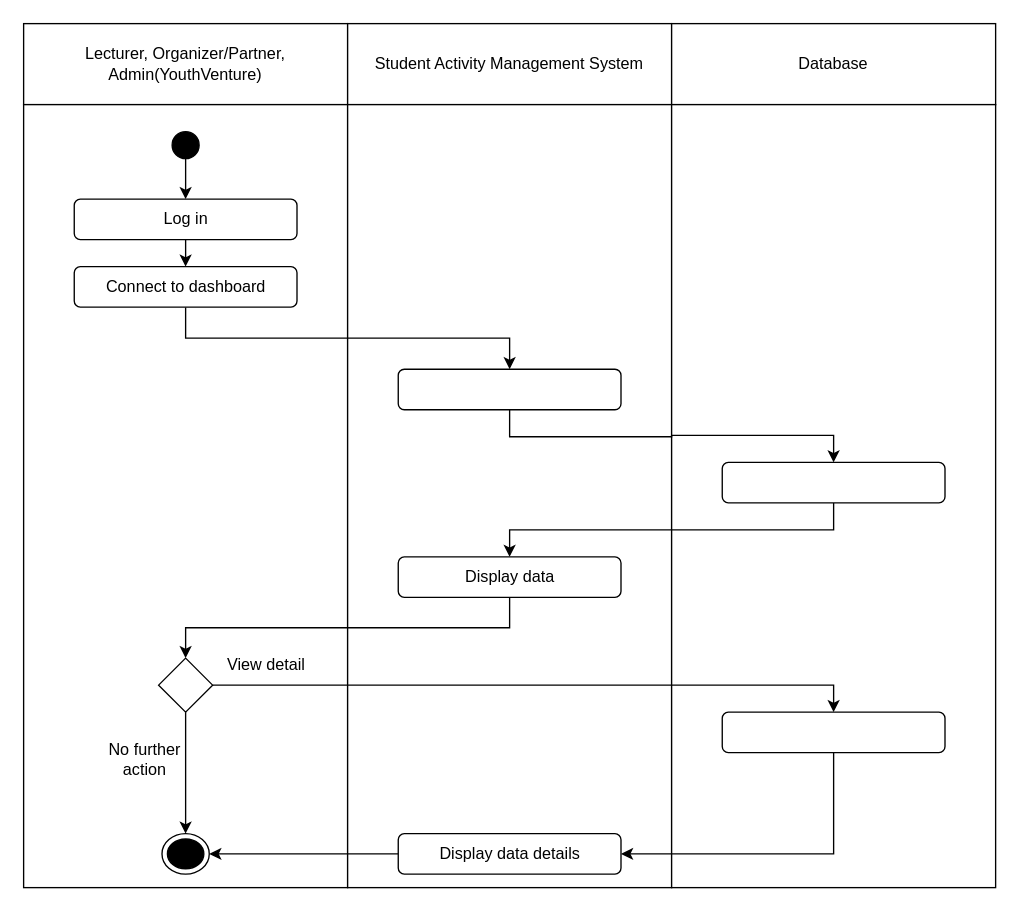
This 1019x911 diagram has some shape labels left out. Here are the shapes that lost their labels. From the top down, the centre of each, then its label:
[509,389]: Authentication
[833,482]: Retrieve data
[833,732]: Retrieve data details
